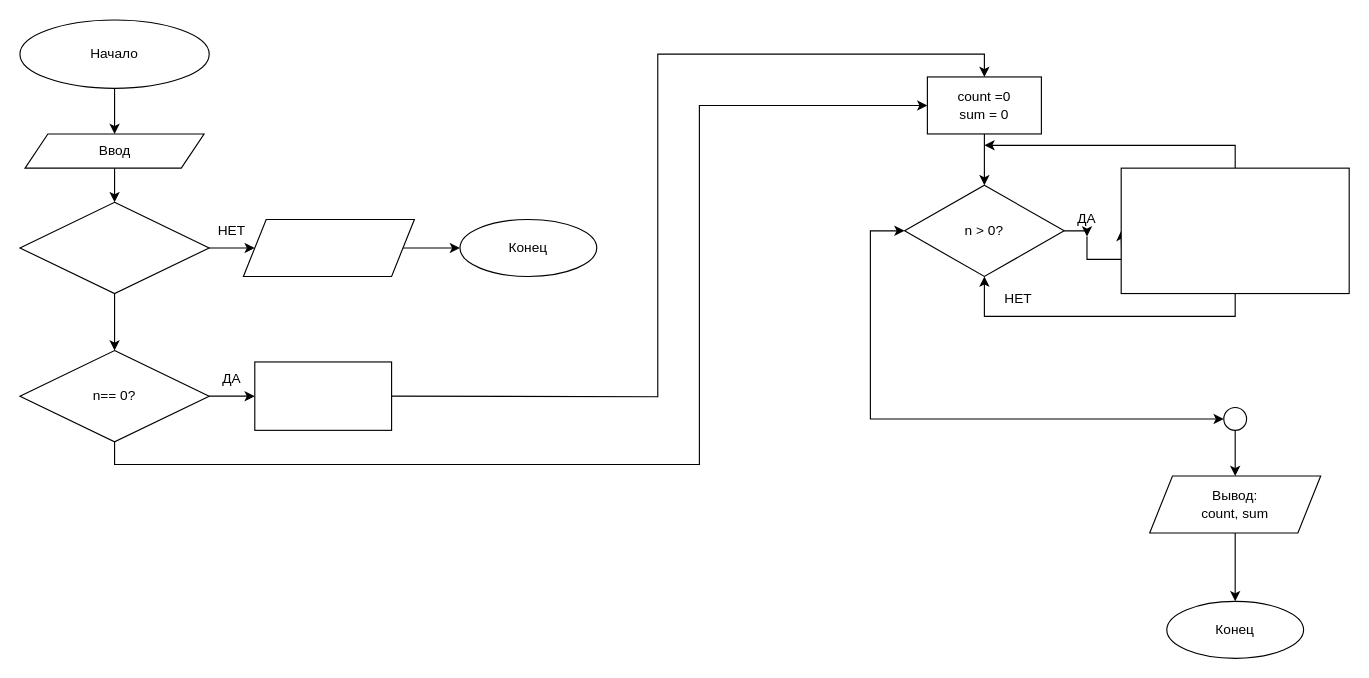
This 1369x678 diagram has some shape labels left out. The centre of each missing label's shape, as x and y in pixels:
count = 1 sum = 0: (x=323, y=395)
digit = n % 10 sum = sum + digit count = count + 1 n =n /10: (x=1234, y=230)
n>=0?: (x=114, y=247)
Вывод: "Ошибка!": (x=328, y=247)
